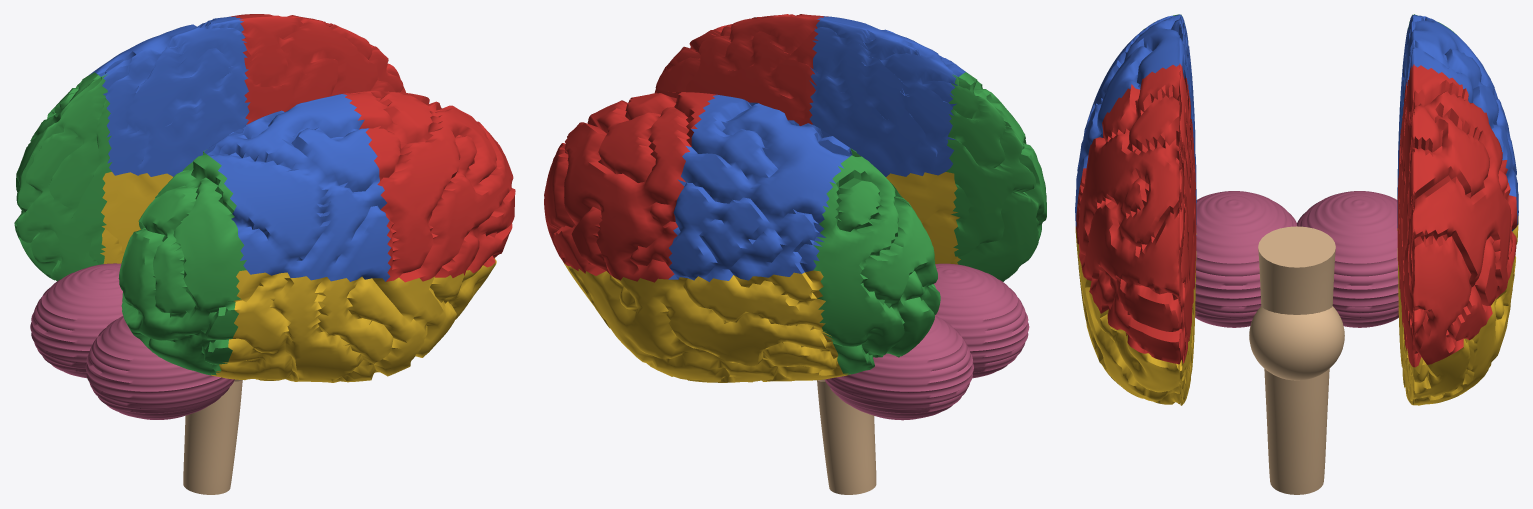
Rendered from brain.glb.
3 views of the same model, side by side, from view 1: azimuth 30°, elevation 25°; view 2: azimuth 150°, elevation 25°; view 3: azimuth 270°, elevation 25° (orthographic). The views are drawn at different scales.
Parts seen in each view (by area): view 1: parietal 1, temporal 1, frontal 1, occipital 1, parietal -1, occipital -1, frontal -1, cerebellum 1, cerebellum -1, brain stem, temporal -1; view 2: parietal -1, temporal -1, frontal -1, occipital -1, parietal 1, occipital 1, frontal 1, cerebellum -1, cerebellum 1, brain stem, temporal 1; view 3: frontal 1, frontal -1, brain stem, cerebellum -1, cerebellum 1, parietal -1, parietal 1, temporal 1, temporal -1, pons.
Part boxes in pixels (<box>): parietal 1: <box>204,93,391,281</box>; temporal 1: <box>211,258,496,382</box>; frontal 1: <box>343,91,515,282</box>; occipital 1: <box>118,150,246,375</box>; parietal -1: <box>88,16,250,176</box>; occipital -1: <box>14,72,112,281</box>; frontal -1: <box>231,14,405,124</box>; cerebellum 1: <box>85,316,234,419</box>; cerebellum -1: <box>30,263,122,378</box>; brain stem: <box>183,380,242,494</box>; temporal -1: <box>100,172,172,263</box>; parietal -1: <box>668,94,852,281</box>; temporal -1: <box>563,262,850,382</box>; frontal -1: <box>544,91,717,282</box>; occipital -1: <box>813,148,940,374</box>; parietal 1: <box>809,16,966,176</box>; occipital 1: <box>946,72,1046,281</box>; frontal 1: <box>654,14,827,125</box>; cerebellum -1: <box>825,315,973,420</box>; cerebellum 1: <box>934,263,1029,378</box>; brain stem: <box>817,380,876,494</box>; temporal 1: <box>886,172,960,264</box>; frontal 1: <box>1076,63,1196,364</box>; frontal -1: <box>1397,64,1517,367</box>; brain stem: <box>1258,226,1335,494</box>; cerebellum -1: <box>1297,191,1398,327</box>; cerebellum 1: <box>1195,191,1296,327</box>; parietal -1: <box>1397,14,1518,231</box>; parietal 1: <box>1075,14,1196,235</box>; temporal 1: <box>1075,226,1196,405</box>; temporal -1: <box>1397,216,1518,405</box>; pons: <box>1249,306,1344,380</box>.
Size of the model in its own units: 3.46 by 3.45 by 2.97.
